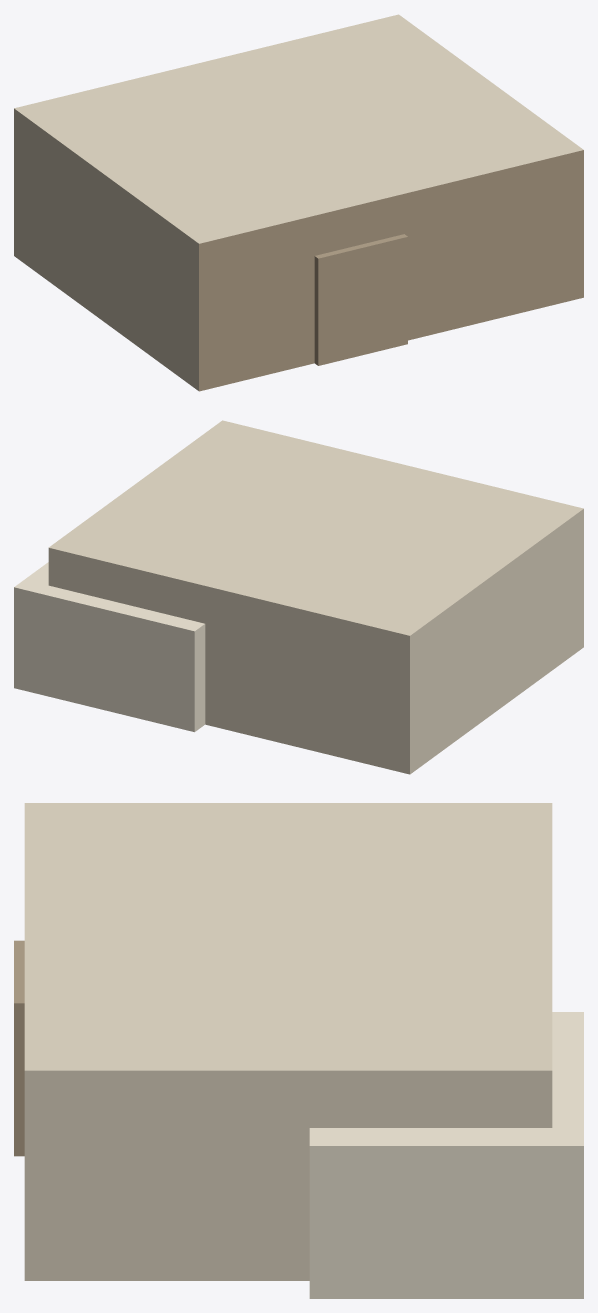
Rendered from desert_adobe.obj.
The picture shows the model from 3 angles, top to bottom: view 1: azimuth 30°, elevation 25°; view 2: azimuth 150°, elevation 25°; view 3: azimuth 270°, elevation 25°; orthographic projection. The views are drawn at different scales.
Parts seen in each view (by area): view 1: DesertAdobe; view 2: DesertAdobe; view 3: DesertAdobe.
Boxes of the visible parts, x1,y1,x2,y2 form: DesertAdobe: (14, 14, 583, 391); DesertAdobe: (14, 420, 583, 774); DesertAdobe: (14, 803, 583, 1298).
Bounding box in the file's own units: 0.64 × 0.22 × 0.54.
